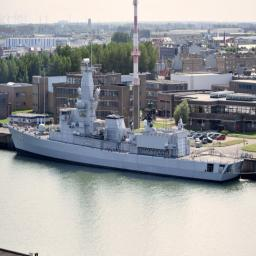Fragata: (7, 55, 246, 185)
